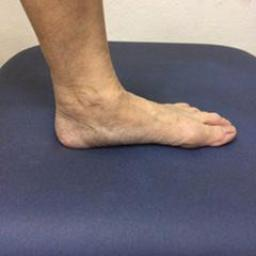Medial View -Left Foot-: (39, 58, 242, 161)
